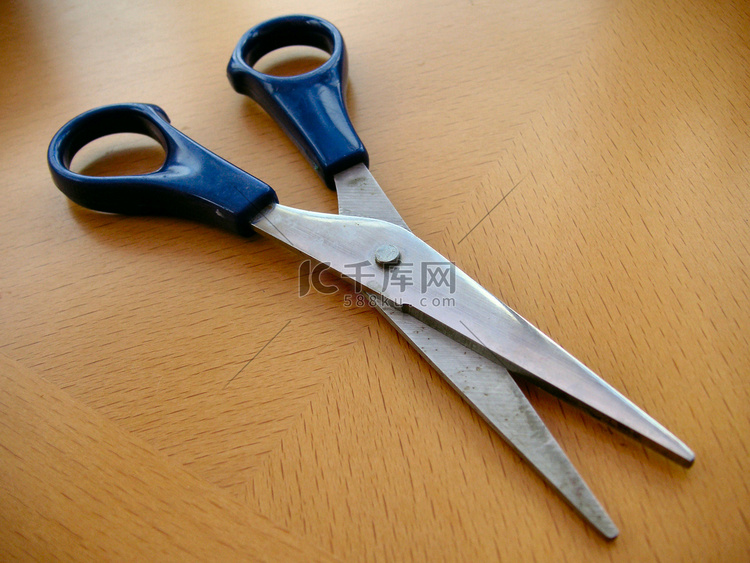scissors: (34, 9, 709, 542)
